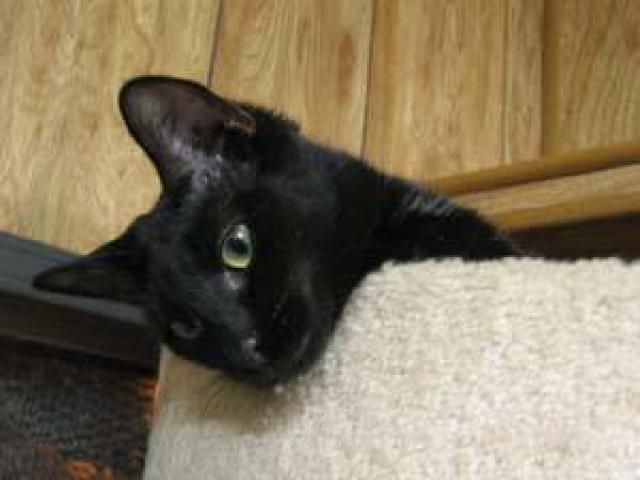cat: (33, 65, 430, 400)
